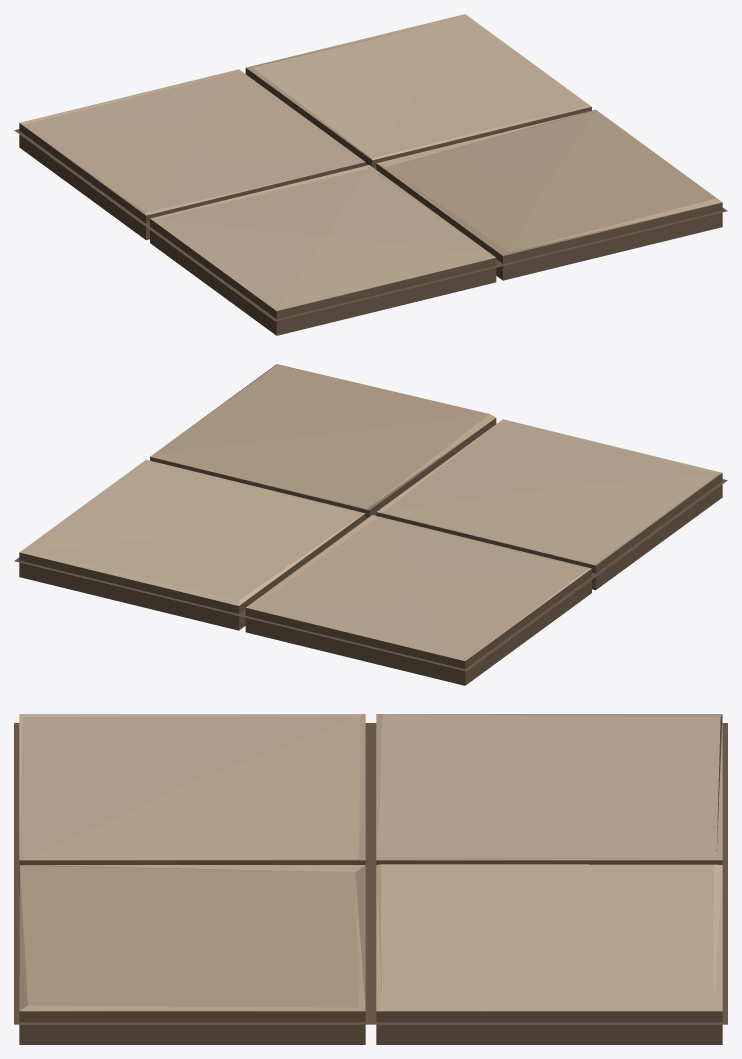
File: SM_Ground_PavingTile_Clean_05.fbx
3 views of the same model, one above another, from view 1: azimuth 30°, elevation 25°; view 2: azimuth 150°, elevation 25°; view 3: azimuth 270°, elevation 25° (orthographic). The views are drawn at different scales.
Visible parts, largest first — view 1: SM_Ground_PavingTile_Clean_05; view 2: SM_Ground_PavingTile_Clean_05; view 3: SM_Ground_PavingTile_Clean_05.
Part boxes in pixels (x1=…): SM_Ground_PavingTile_Clean_05: x1=14, y1=14, x2=727, y2=335; SM_Ground_PavingTile_Clean_05: x1=14, y1=364, x2=727, y2=685; SM_Ground_PavingTile_Clean_05: x1=14, y1=714, x2=727, y2=1044.
Bounding box in the file's own units: 1 × 0.0573 × 1.
Materials: 1 (1 with a texture image).
